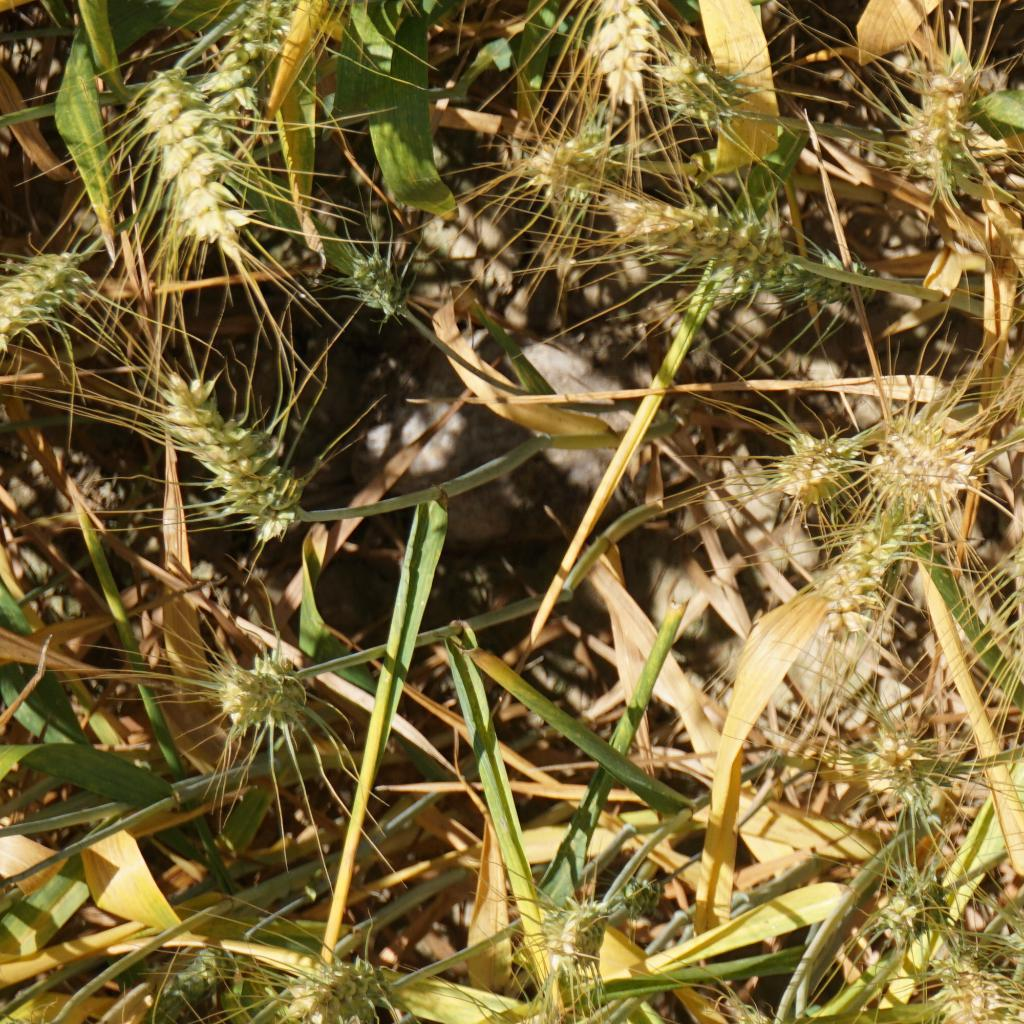0-0: (154, 357, 316, 548), (132, 75, 225, 241), (615, 194, 782, 276), (811, 510, 906, 646), (729, 238, 888, 316), (564, 0, 667, 118), (861, 415, 995, 504), (0, 243, 96, 347), (203, 652, 315, 735), (846, 697, 936, 792), (646, 49, 742, 138), (204, 0, 272, 124), (286, 950, 398, 1024), (912, 86, 986, 194), (528, 126, 633, 197), (768, 418, 847, 504), (335, 241, 432, 311), (536, 886, 612, 971), (865, 859, 941, 939), (153, 942, 231, 1010), (927, 948, 998, 998), (990, 886, 1024, 985), (603, 871, 654, 923)
